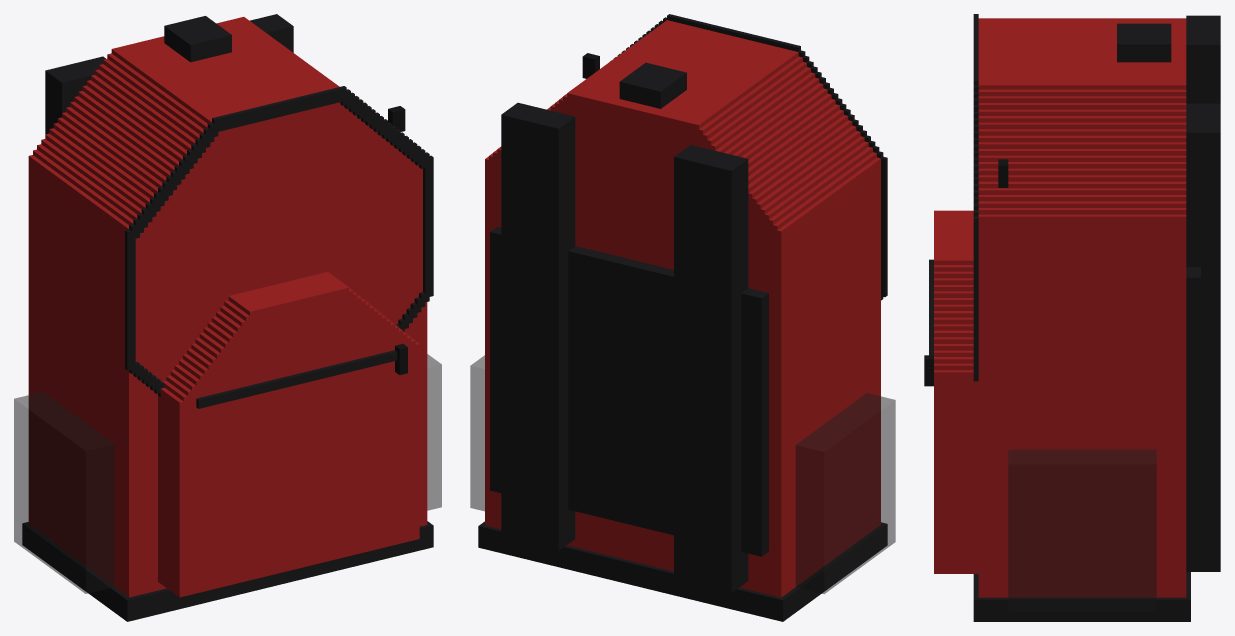
Rendered from travelpack.glb.
The picture shows the model from 3 angles, left to right: view 1: azimuth 30°, elevation 25°; view 2: azimuth 150°, elevation 25°; view 3: azimuth 270°, elevation 25°; orthographic projection. The views are drawn at different scales.
Visible parts, largest first — view 1: travelpack:compound; view 2: travelpack:compound; view 3: travelpack:compound.
Boxes of the visible parts, box(x1,y1,x2,y2) form: travelpack:compound: box(14, 14, 441, 621); travelpack:compound: box(470, 14, 895, 621); travelpack:compound: box(924, 14, 1220, 621).
Size of the model in its own units: 0.344 by 0.456 by 0.24.
